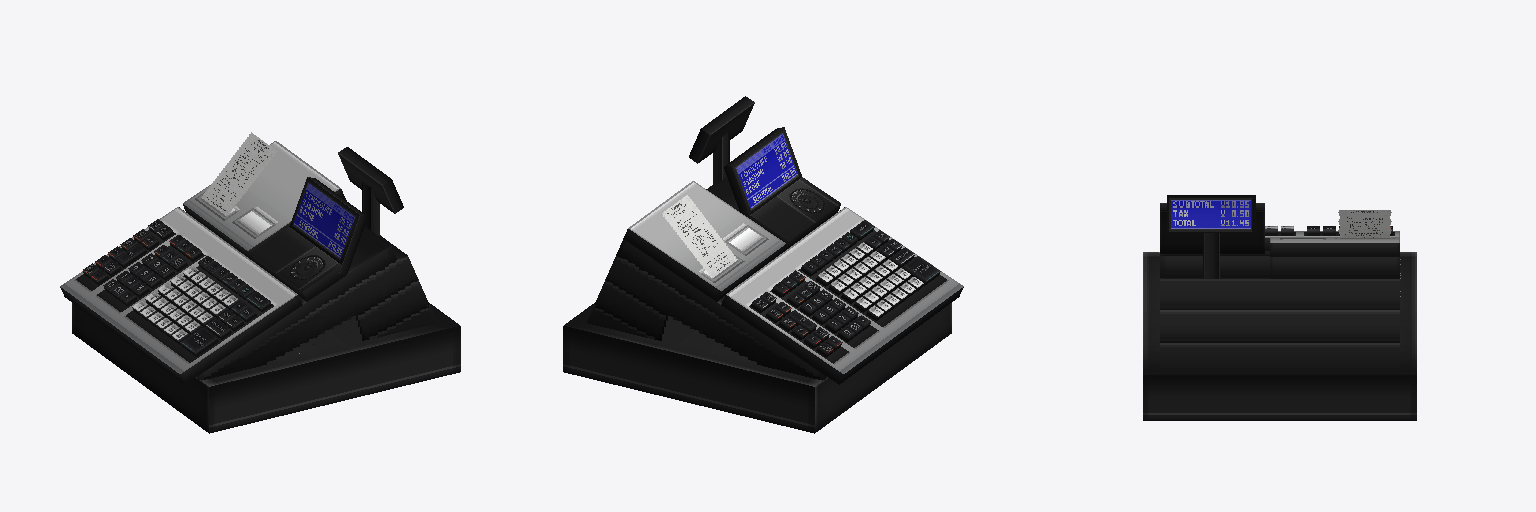
The picture shows the model from 3 angles: view 1: azimuth 30°, elevation 25°; view 2: azimuth 150°, elevation 25°; view 3: azimuth 270°, elevation 25°; orthographic projection.
Visible parts, largest first — view 1: cube, key; view 2: cube, key; view 3: cube, key.
Part boxes in pixels (left/top/right/bottom): cube: left=60, top=132, right=460, bottom=433; key: left=83, top=219, right=271, bottom=356; cube: left=563, top=96, right=963, bottom=433; key: left=751, top=220, right=940, bottom=357; cube: left=1143, top=195, right=1416, bottom=420; key: left=1265, top=226, right=1392, bottom=235.
Size of the model in its own units: 0.7419 by 0.5173 by 0.65.
Materials: 2 (2 with a texture image).